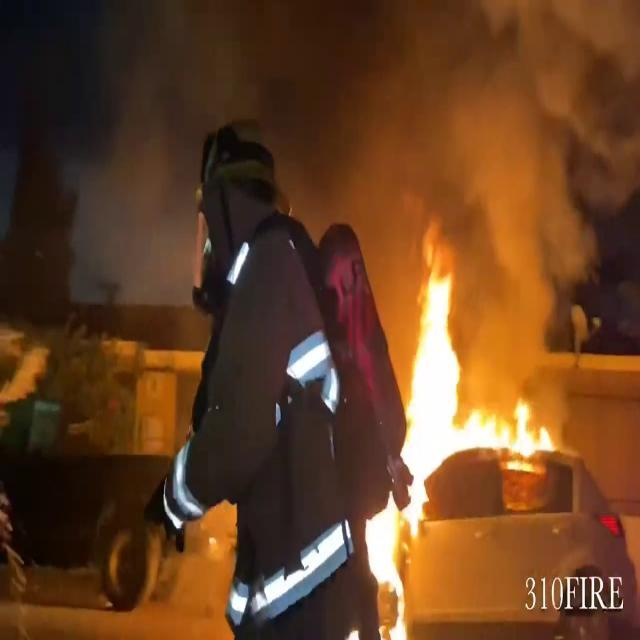Fire: (366, 238, 554, 624)
Smoke: (30, 1, 632, 296)
